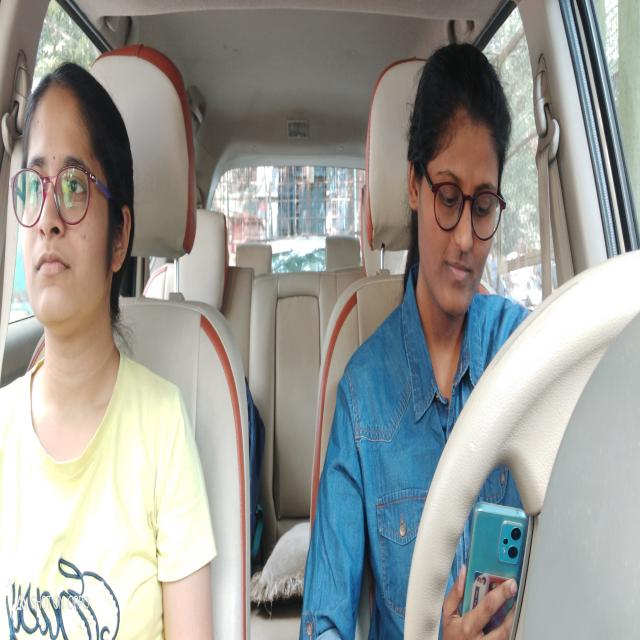mobile: (462, 499, 529, 635)
person: (404, 37, 518, 322), (11, 62, 132, 329)
